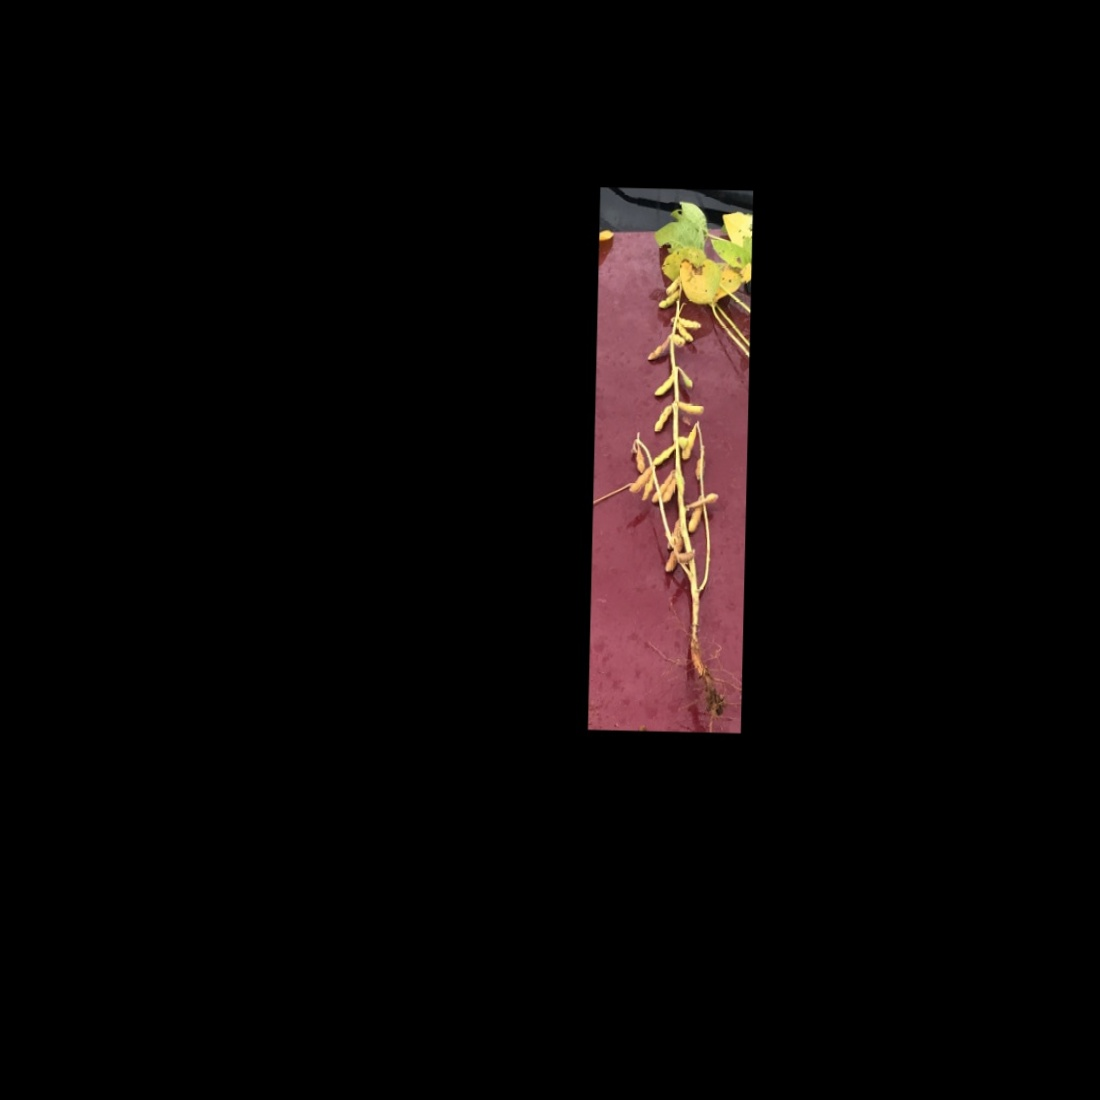pod: (649, 400, 675, 436), (651, 367, 675, 399), (627, 464, 652, 495), (647, 444, 676, 469), (677, 397, 713, 417), (655, 286, 682, 311), (671, 320, 697, 343), (660, 475, 677, 506), (675, 316, 701, 331)
soy: (595, 194, 744, 713)
